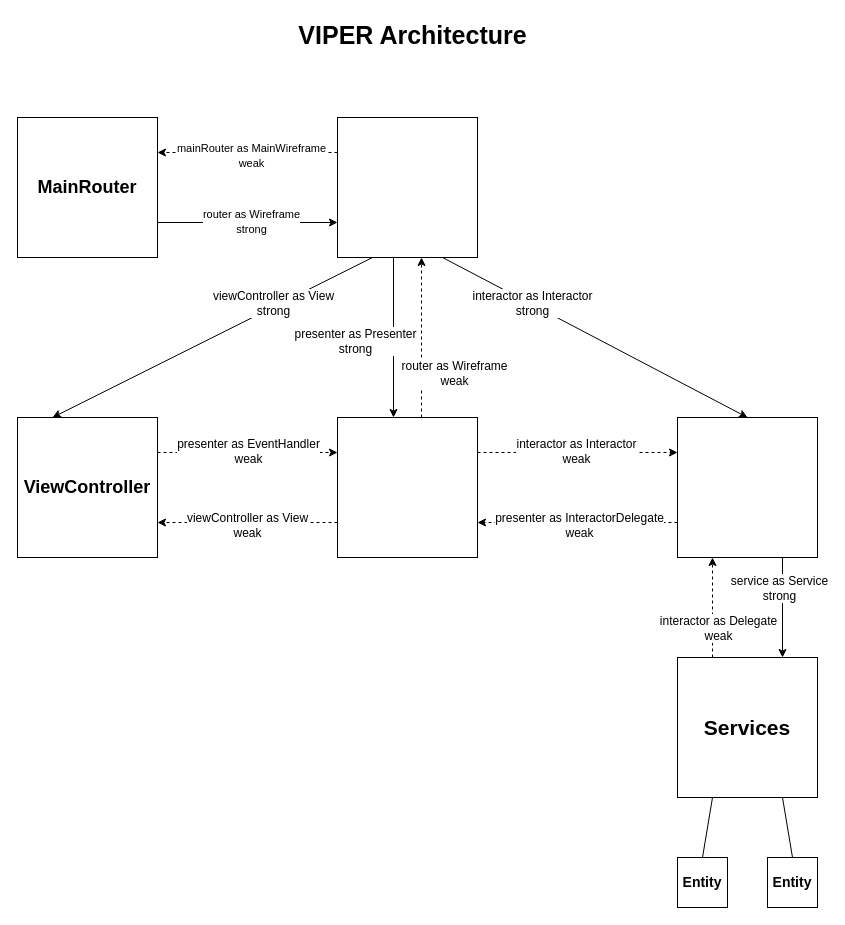
This 845x925 diagram has some shape labels left out. The centre of each missing label's shape, as x and y in pixels:
"Interactor" belongs at point 747,487.
"Presenter" belongs at point 407,487.
"Router" belongs at point 407,187.
